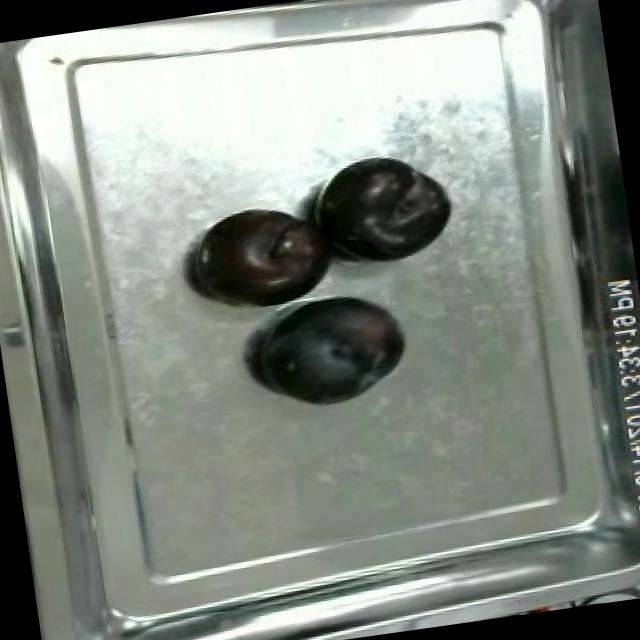Fruit: (243, 282, 422, 419), (301, 145, 461, 276), (185, 195, 344, 318)
